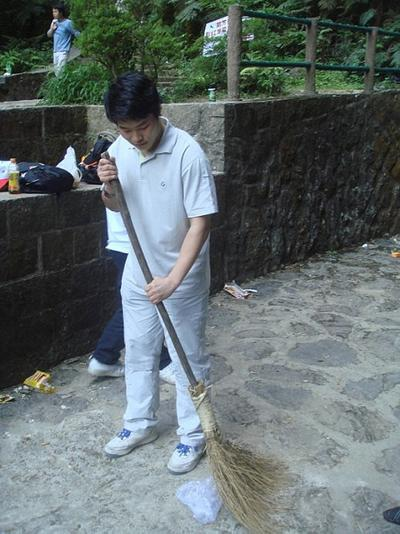person: (98, 72, 218, 477)
